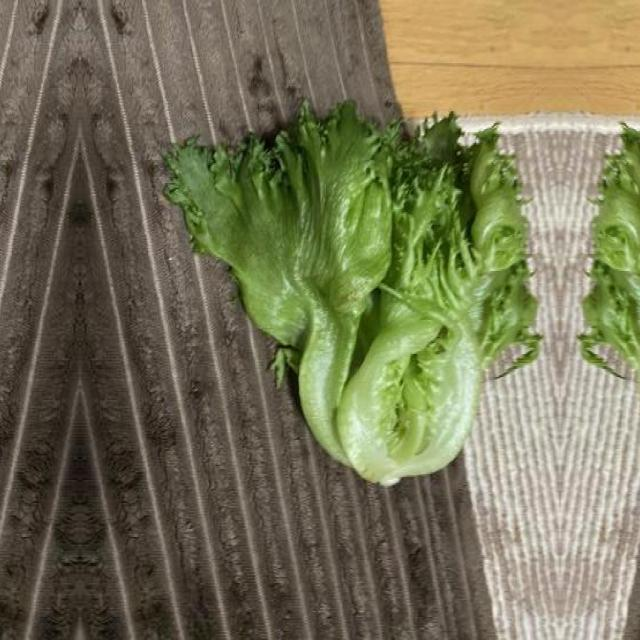healthy: (163, 91, 545, 489), (575, 91, 640, 489)
